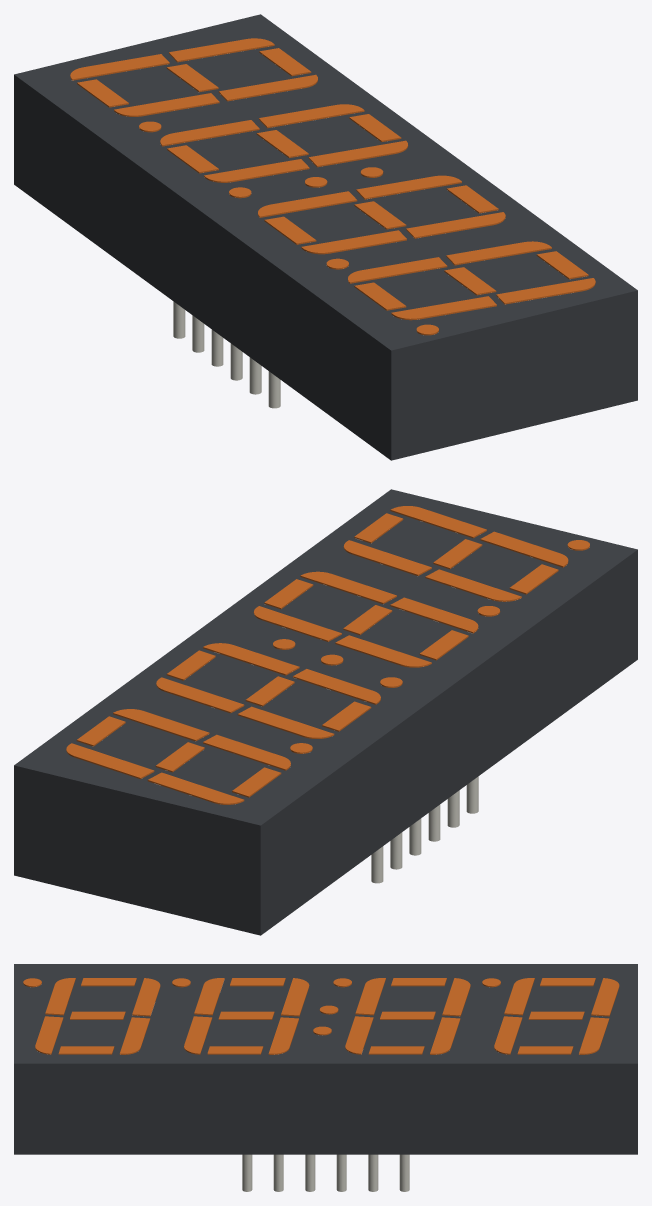
Rendered from kc-ca56-12sekwa.glb.
The picture shows the model from 3 angles, top to bottom: view 1: azimuth 30°, elevation 25°; view 2: azimuth 150°, elevation 25°; view 3: azimuth 270°, elevation 25°; orthographic projection. The views are drawn at different scales.
Parts seen in each view (by area): view 1: 0.08333333333333333_0.08333333333333333_0.08333333333333333_, 0.5833333333333334_0.16666666666666666_0_0, 0.6666666666666666_0.6666666666666666_0.5833333333333334_0.8; view 2: 0.08333333333333333_0.08333333333333333_0.08333333333333333_, 0.5833333333333334_0.16666666666666666_0_0, 0.6666666666666666_0.6666666666666666_0.5833333333333334_0.8; view 3: 0.08333333333333333_0.08333333333333333_0.08333333333333333_, 0.5833333333333334_0.16666666666666666_0_0, 0.6666666666666666_0.6666666666666666_0.5833333333333334_0.8.
Part boxes in pixels (x1,y1,x2,y2): 0.08333333333333333_0.08333333333333333_0.08333333333333333_: (14, 14, 637, 460); 0.5833333333333334_0.16666666666666666_0_0: (70, 38, 595, 335); 0.6666666666666666_0.6666666666666666_0.5833333333333334_0.8: (173, 301, 280, 408); 0.08333333333333333_0.08333333333333333_0.08333333333333333_: (14, 489, 637, 935); 0.5833333333333334_0.16666666666666666_0_0: (66, 506, 589, 804); 0.6666666666666666_0.6666666666666666_0.5833333333333334_0.8: (371, 776, 478, 883); 0.08333333333333333_0.08333333333333333_0.08333333333333333_: (14, 964, 637, 1154); 0.5833333333333334_0.16666666666666666_0_0: (23, 978, 619, 1054); 0.6666666666666666_0.6666666666666666_0.5833333333333334_0.8: (242, 1154, 409, 1191).
Size of the model in its own units: 1.9 by 1.22 by 5.03.
